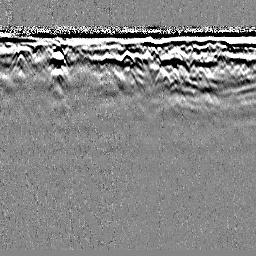cavity: (118, 49, 133, 61)
